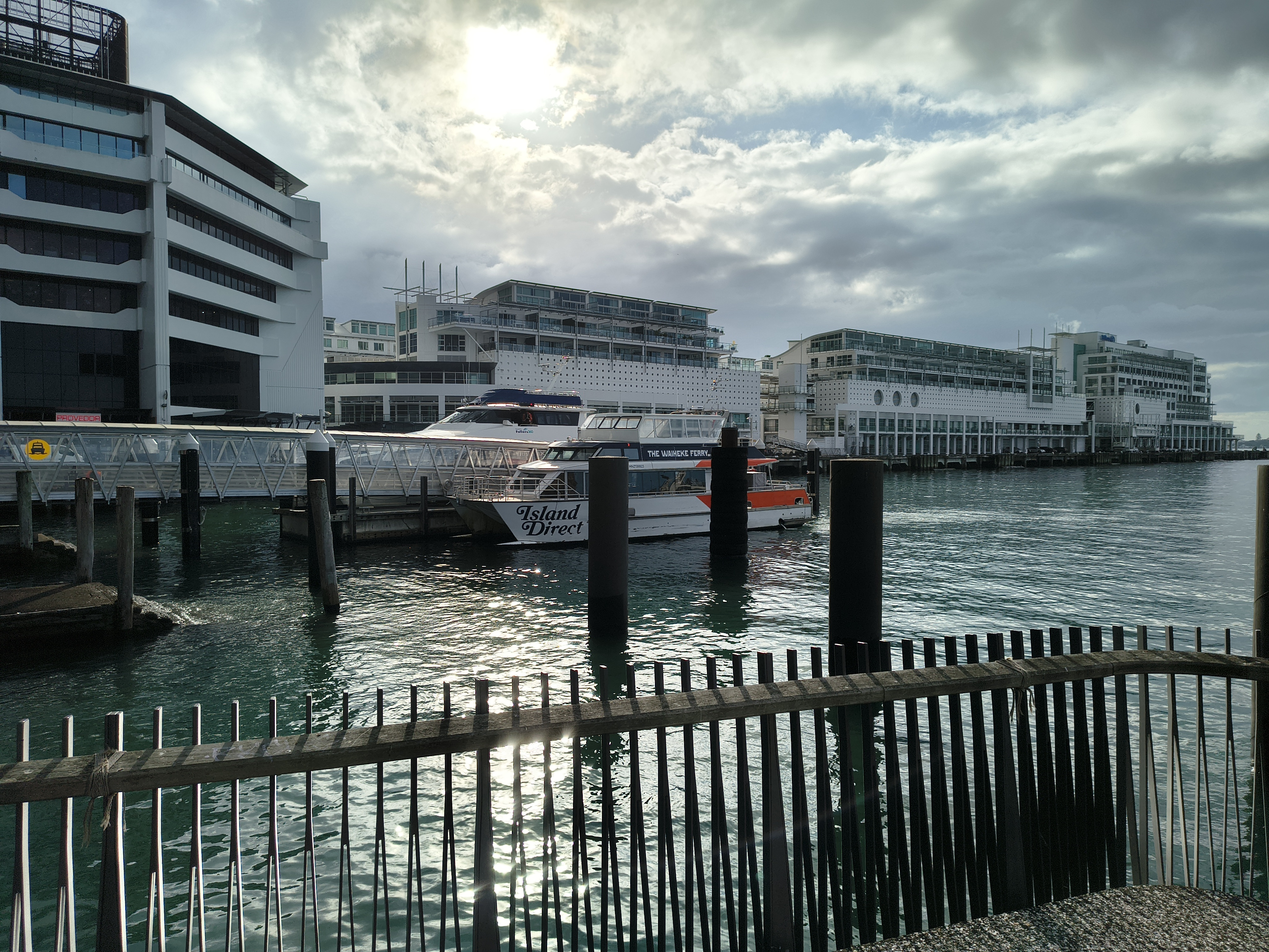ferry: (315, 388, 675, 518)
